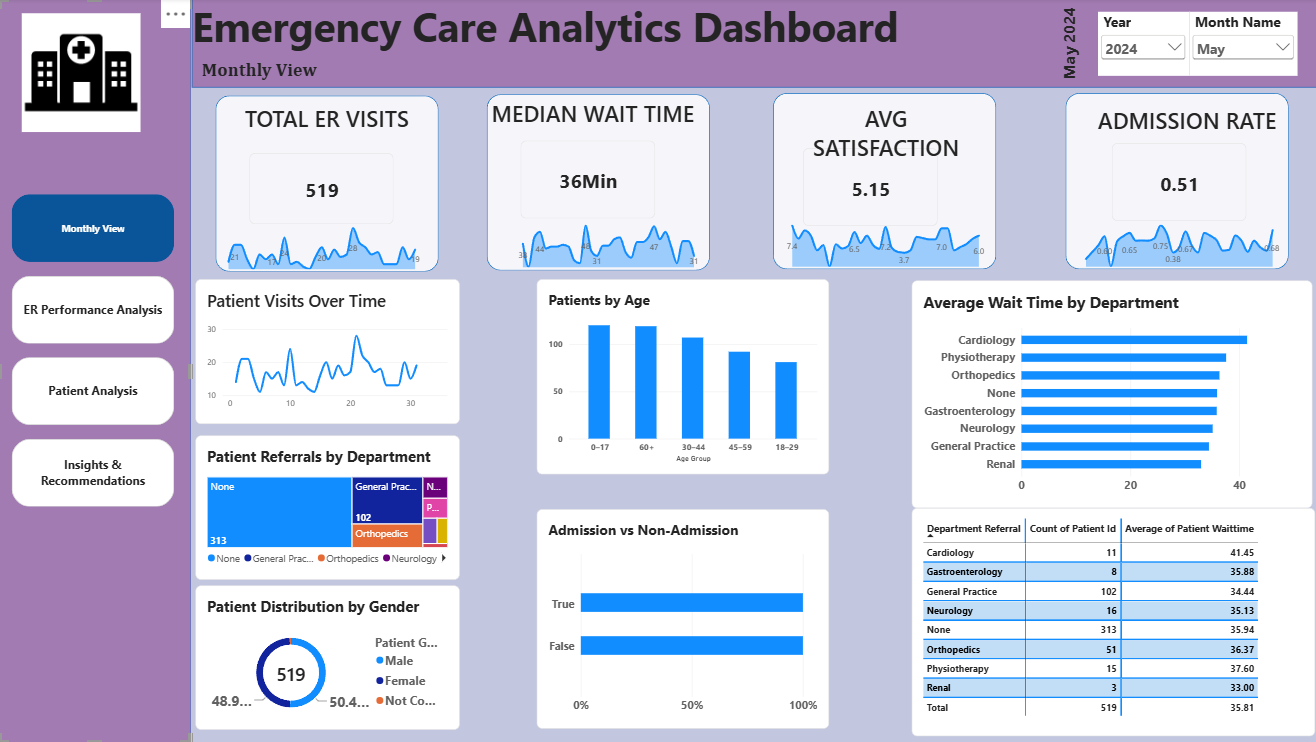

The dashboard page shown, as its layout file describes it:
{"tool":"powerbi","page":{"name":"Monthly View","canvas":[1920,1080],"ordinal":0},"visuals":[{"type":"shape","box":[315.1,140.8,323,255],"z":0},{"type":"shape","box":[0,0,279.9,1080.6],"z":1000},{"type":"shape","box":[279.9,0,1640.5,129.7],"z":2000},{"type":"textbox","box":[280.3,0,1640.5,117.3],"z":3000},{"type":"cardVisual","fields":{"Data":["Data Table.Total ER Visits"]},"box":[363.2,224.2,209.7,103.8],"z":4000},{"type":"textbox","box":[294.3,86.4,191.4,43.2],"z":5000},{"type":"slicer","fields":{"Values":["Data Table.Year"]},"box":[1592.4,20.8,131.7,92.6],"z":6000},{"type":"slicer","fields":{"Values":["Data Table.Month Name"]},"box":[1725.3,20.8,156.4,92.6],"z":7000},{"type":"textbox","box":[334.3,151.6,283.3,71.4],"z":8000},{"type":"stackedAreaChart","fields":{"Category":["Data Table.Date.Variation.Date Hierarchy.Day"],"Y":["Data Table.Total ER Visits"]},"box":[315.1,311.4,322.2,99.5],"z":9000},{"type":"cardVisual","fields":{"Rows":["Data Table.Month & Year"]},"box":[1534.3,4.2,172,122],"z":10000},{"type":"shape","box":[1121.2,137.1,323.2,255.2],"z":11000},{"type":"cardVisual","fields":{"Data":["Hospital ER_Data.Avg Satisfaction"]},"box":[1165.7,216.8,195.5,113.2],"z":12000},{"type":"textbox","box":[1123.1,152,283.3,71.4],"z":13000},{"type":"stackedAreaChart","fields":{"Category":["Data Table.Date.Variation.Date Hierarchy.Day"],"Y":["Hospital ER_Data.Avg Satisfaction"]},"box":[1123.1,305.8,322.2,99.5],"z":14000},{"type":"shape","box":[1544.6,137,323.2,255.2],"z":15000},{"type":"cardVisual","fields":{"Data":["Hospital ER_Data.Admission Rate %"]},"box":[1612.4,209.4,195.5,113.2],"z":16000},{"type":"textbox","box":[1579.9,155.7,283.3,71.4],"z":17000},{"type":"stackedAreaChart","fields":{"Category":["Data Table.Date.Variation.Date Hierarchy.Day"],"Y":["Hospital ER_Data.Admission Rate %"]},"box":[1549.3,305.8,322.2,99.5],"z":18000},{"type":"shape","box":[708,139,323.2,255.2],"z":19000},{"type":"cardVisual","fields":{"Data":["Hospital ER_Data.Median Wait Time"]},"box":[756.1,205.7,195.5,113.2],"z":20000},{"type":"textbox","box":[708,145.3,307.3,91.3],"z":21000},{"type":"stackedAreaChart","fields":{"Category":["Data Table.Date.Variation.Date Hierarchy.Day"],"Y":["Median(Hospital ER_Data.Patient Waittime)"]},"box":[726.5,305.8,341,100.1],"z":22000},{"type":"lineChart","title":"Patient Visits Over Time","fields":{"Category":["Hospital ER_Data.Patient Admission Date.Variation.Date Hierarchy.Day"],"Y":["CountNonNull(Hospital ER_Data.Patient Id)"]},"box":[285.4,407.7,382,209.7],"z":23000},{"type":"clusteredColumnChart","title":"Patients by Age","fields":{"Category":["Hospital ER_Data.Age Group"],"Y":["CountNonNull(Hospital ER_Data.Patient Id)"]},"box":[780.2,407.7,423.5,282.4],"z":24000},{"type":"hundredPercentStackedBarChart","title":"Admission vs Non-Admission","fields":{"Category":["Hospital ER_Data.Patient Admission Flag"],"Y":["CountNonNull(Hospital ER_Data.Patient Id)"]},"box":[780.2,739.5,423.5,317.6],"z":25000},{"type":"treemap","title":"Patient Referrals by Department","fields":{"Group":["Hospital ER_Data.Department Referral"],"Values":["CountNonNull(Hospital ER_Data.Patient Id)"]},"box":[285.4,633.8,382,209],"z":26000},{"type":"donutChart","title":"Patient Distribution by Gender","fields":{"Category":["Hospital ER_Data.Patient Gender"],"Y":["CountNonNull(Hospital ER_Data.Patient Id)"]},"box":[285.4,850.7,382,209],"z":27000},{"type":"barChart","title":"Average Wait Time by Department","fields":{"Category":["Hospital ER_Data.Department Referral"],"Y":["Avg(Hospital ER_Data.Patient Waittime)"]},"box":[1323.2,409.6,580.1,329.9],"z":28000},{"type":"pivotTable","fields":{"Rows":["Hospital ER_Data.Department Referral"],"Values":["CountNonNull(Hospital ER_Data.Patient Id)","Avg(Hospital ER_Data.Patient Waittime)"]},"box":[1323.2,737.6,584,330],"z":29000},{"type":"pageNavigator","box":[19.9,284.1,235.3,454.2],"z":30000},{"type":"image","box":[35.2,11.1,172.4,194.6],"z":30001}]}

Visuals, with their boxes on the page's 1920x1080 design canvas (x1, y1, x2, y2). These are canvas units, not pixel positions in the 1316x742 screenshot, which may show the page scaled, cropped or inside an application window:
shape: box=[315, 141, 638, 396]
shape: box=[0, 0, 280, 1081]
shape: box=[280, 0, 1920, 130]
textbox: box=[280, 0, 1921, 117]
cardVisual - Data Table.Total ER Visits: box=[363, 224, 573, 328]
textbox: box=[294, 86, 486, 130]
slicer - Data Table.Year: box=[1592, 21, 1724, 113]
slicer - Data Table.Month Name: box=[1725, 21, 1882, 113]
textbox: box=[334, 152, 618, 223]
stackedAreaChart - Data Table.Date.Variation.Date Hierarchy.Day x Data Table.Total ER Visits: box=[315, 311, 637, 411]
cardVisual - Data Table.Month & Year: box=[1534, 4, 1706, 126]
shape: box=[1121, 137, 1444, 392]
cardVisual - Hospital ER_Data.Avg Satisfaction: box=[1166, 217, 1361, 330]
textbox: box=[1123, 152, 1406, 223]
stackedAreaChart - Data Table.Date.Variation.Date Hierarchy.Day x Hospital ER_Data.Avg Satisfaction: box=[1123, 306, 1445, 405]
shape: box=[1545, 137, 1868, 392]
cardVisual - Hospital ER_Data.Admission Rate %: box=[1612, 209, 1808, 323]
textbox: box=[1580, 156, 1863, 227]
stackedAreaChart - Data Table.Date.Variation.Date Hierarchy.Day x Hospital ER_Data.Admission Rate %: box=[1549, 306, 1872, 405]
shape: box=[708, 139, 1031, 394]
cardVisual - Hospital ER_Data.Median Wait Time: box=[756, 206, 952, 319]
textbox: box=[708, 145, 1015, 237]
stackedAreaChart - Data Table.Date.Variation.Date Hierarchy.Day x Median(Hospital ER_Data.Patient Waittime): box=[726, 306, 1068, 406]
"Patient Visits Over Time" lineChart: box=[285, 408, 667, 617]
"Patients by Age" clusteredColumnChart: box=[780, 408, 1204, 690]
"Admission vs Non-Admission" hundredPercentStackedBarChart: box=[780, 740, 1204, 1057]
"Patient Referrals by Department" treemap: box=[285, 634, 667, 843]
"Patient Distribution by Gender" donutChart: box=[285, 851, 667, 1060]
"Average Wait Time by Department" barChart: box=[1323, 410, 1903, 740]
pivotTable - Hospital ER_Data.Department Referral x CountNonNull(Hospital ER_Data.Patient Id): box=[1323, 738, 1907, 1068]
pageNavigator: box=[20, 284, 255, 738]
image: box=[35, 11, 208, 206]
